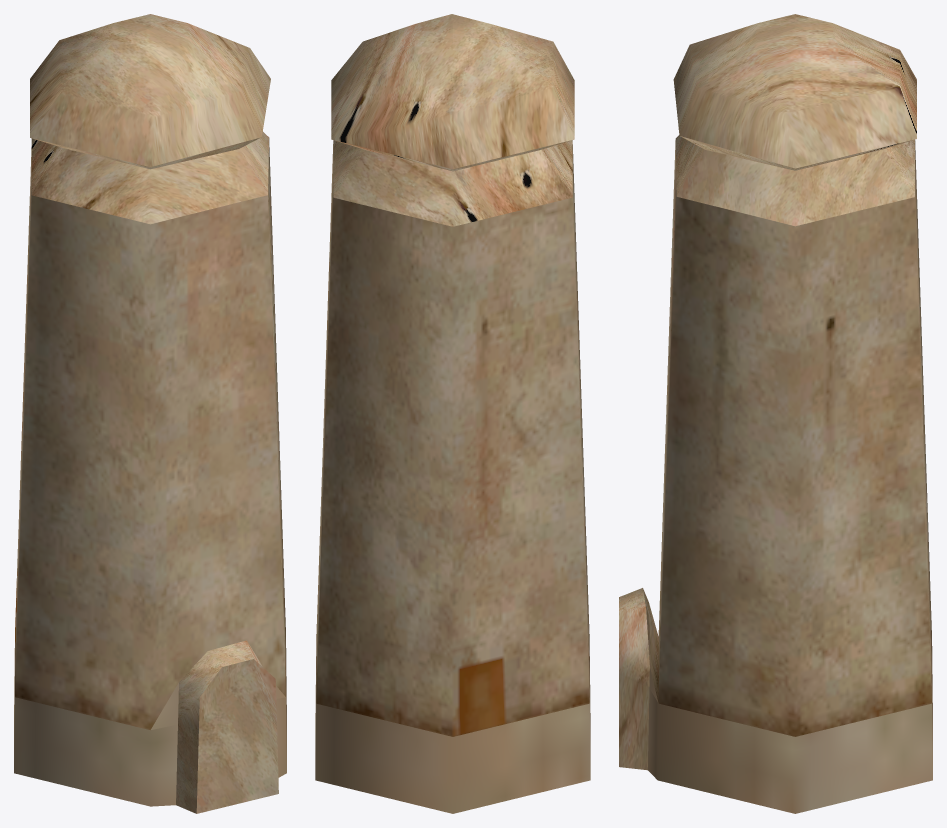
File: thm_tato_imprv_building_s06_r0_mesh_l3.fbx
3 views of the same model, side by side, from view 1: azimuth 30°, elevation 25°; view 2: azimuth 150°, elevation 25°; view 3: azimuth 270°, elevation 25° (orthographic).
Parts seen in each view (by area): view 1: mesh_node; view 2: mesh_node; view 3: mesh_node.
Boxes of the visible parts, x1,y1,x2,y2 form: mesh_node: (14,14,286,813); mesh_node: (315,14,590,813); mesh_node: (619,14,932,813).
Size of the model in its own units: 20.02 by 49.94 by 19.78.
1 material, 1 textured.
